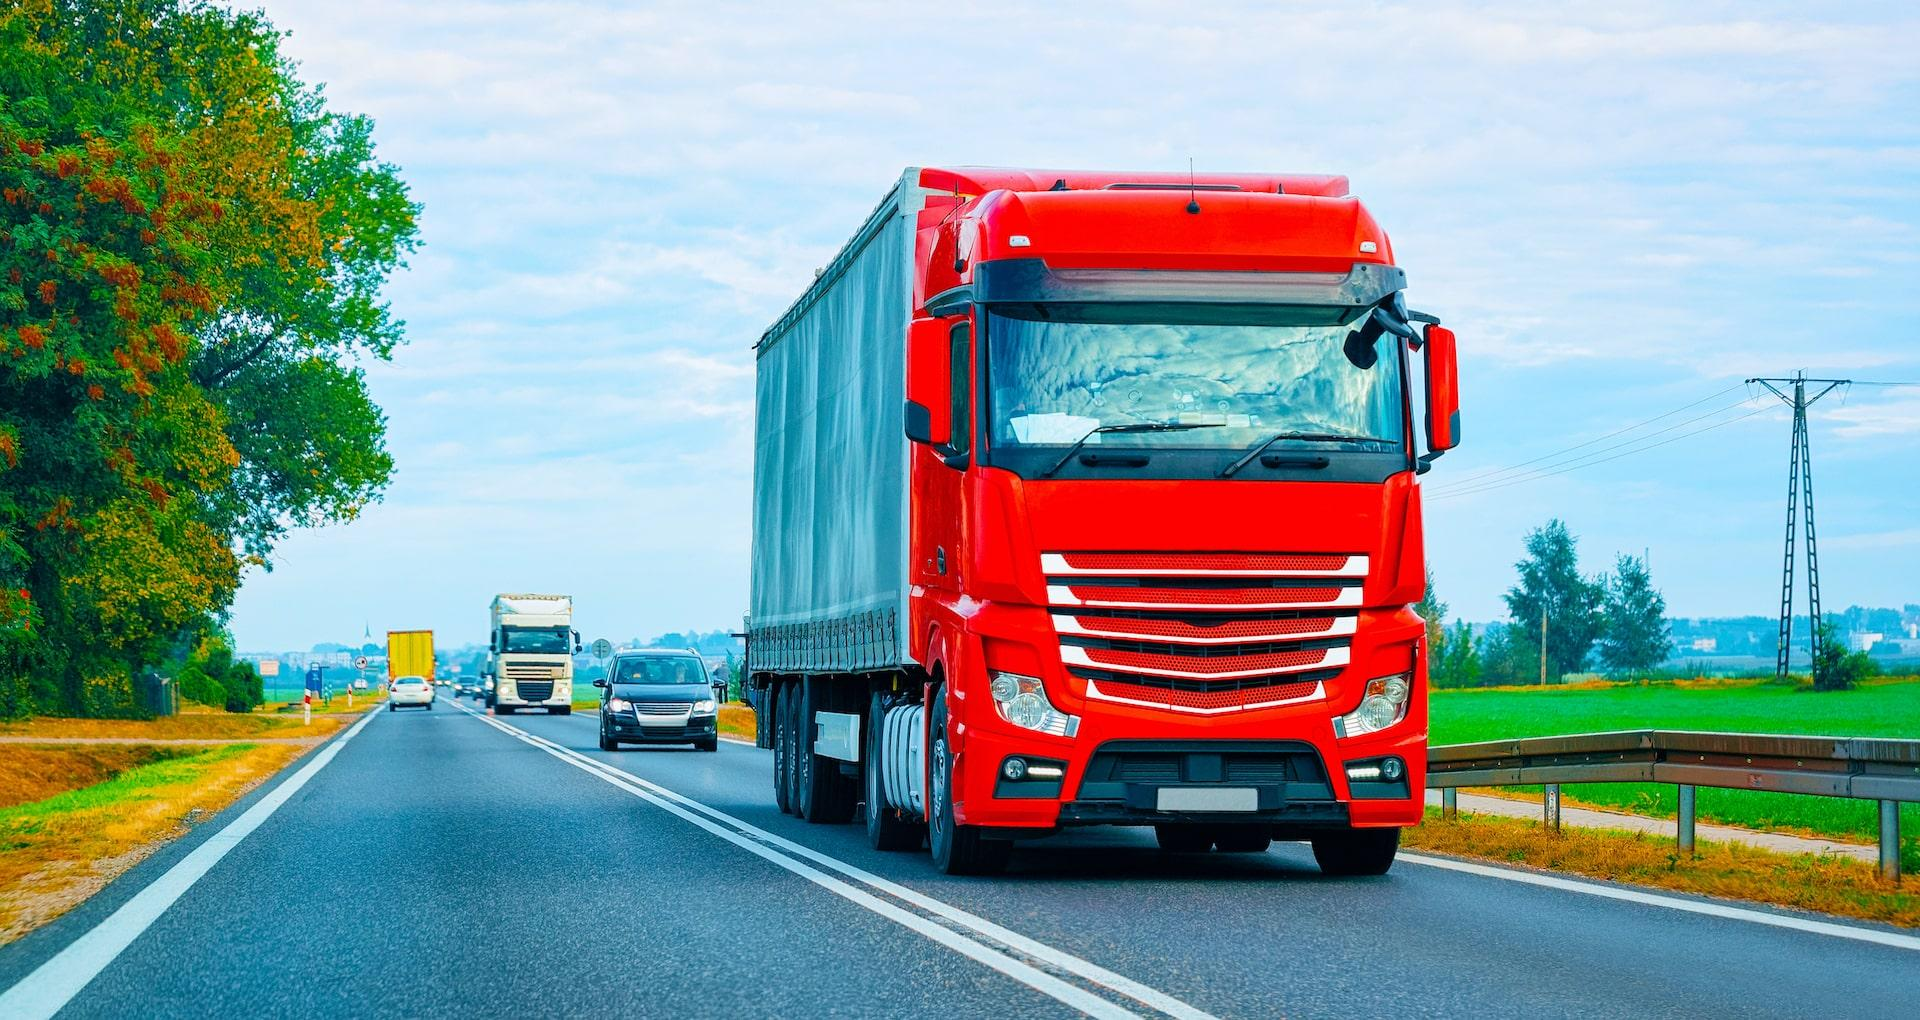car: (593, 646, 727, 755), (386, 676, 432, 711)
truck: (746, 163, 1459, 881), (486, 595, 579, 718)
